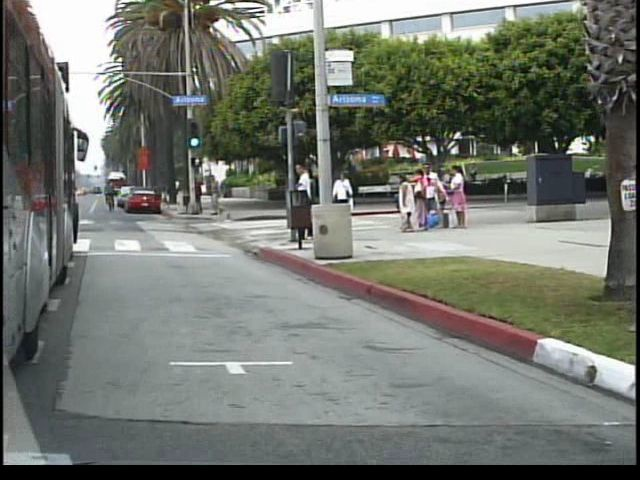person: (294, 158, 321, 244), (338, 167, 361, 235), (210, 171, 231, 218)
